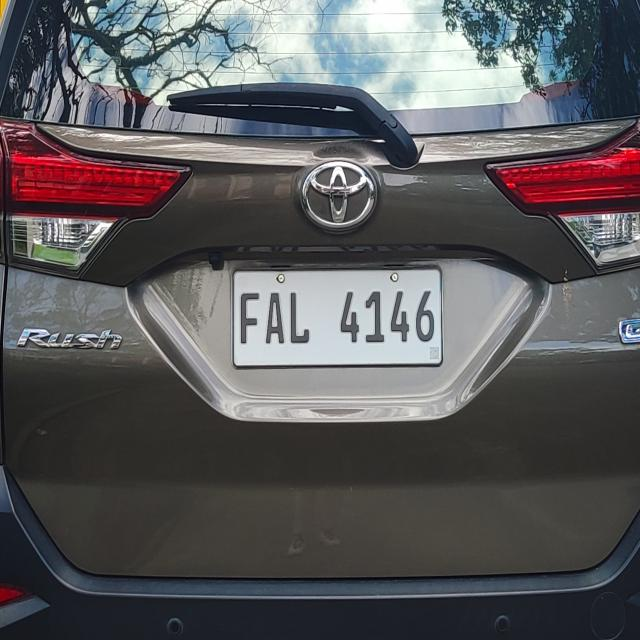plate: (230, 265, 445, 371)
